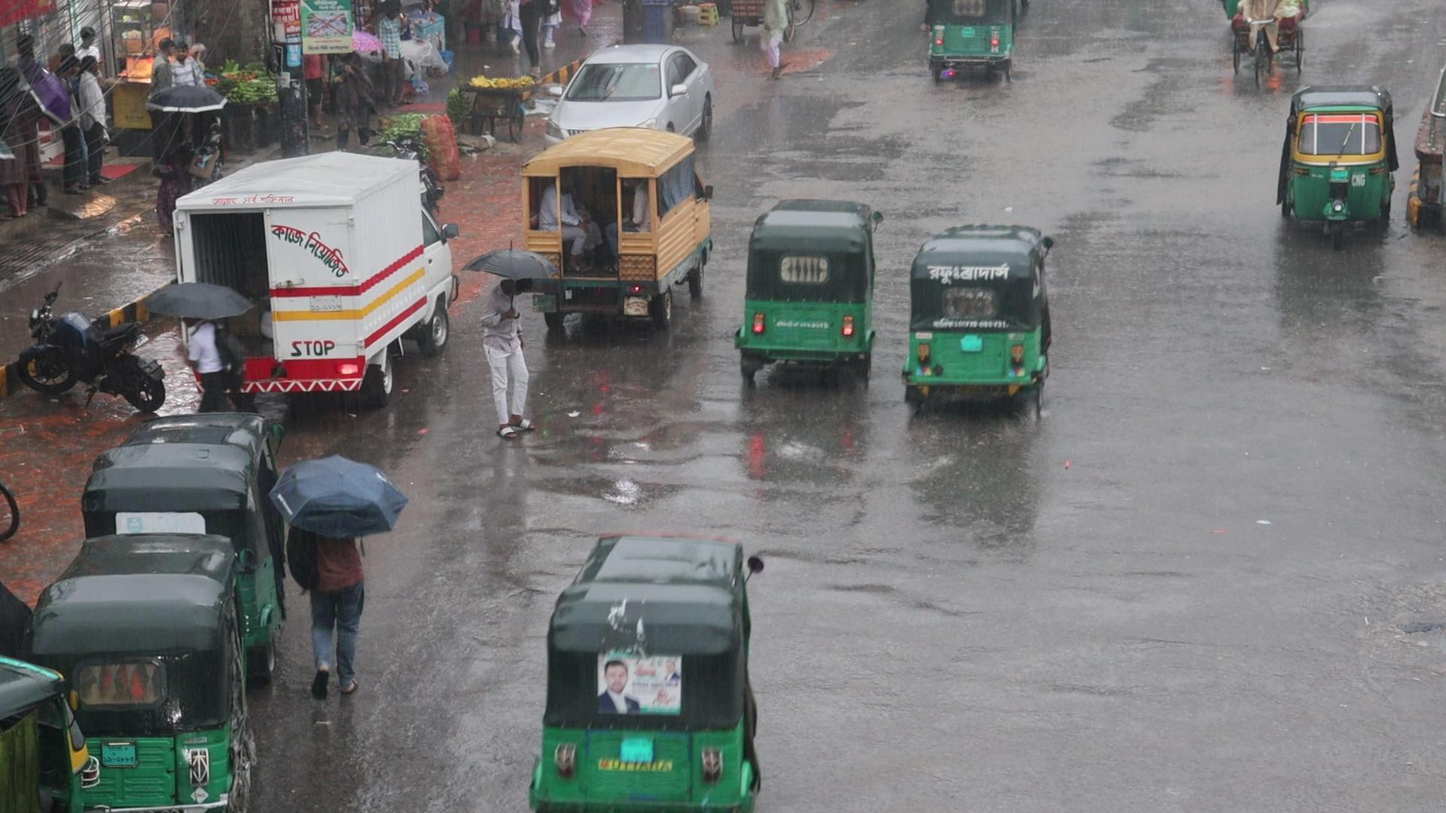Car: (540, 42, 714, 136)
Truck: (519, 128, 713, 329)
